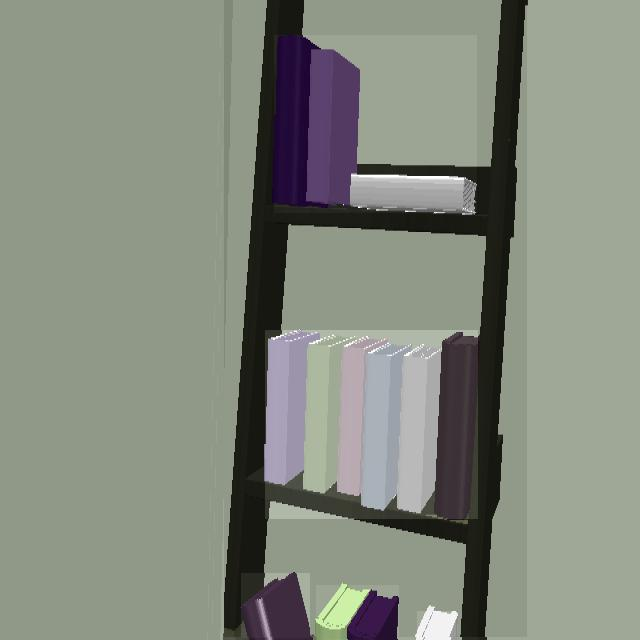book: (266, 330, 478, 519), (275, 35, 477, 213), (317, 585, 399, 639), (243, 573, 310, 637), (419, 611, 456, 637)
shelf: (225, 0, 526, 637)
